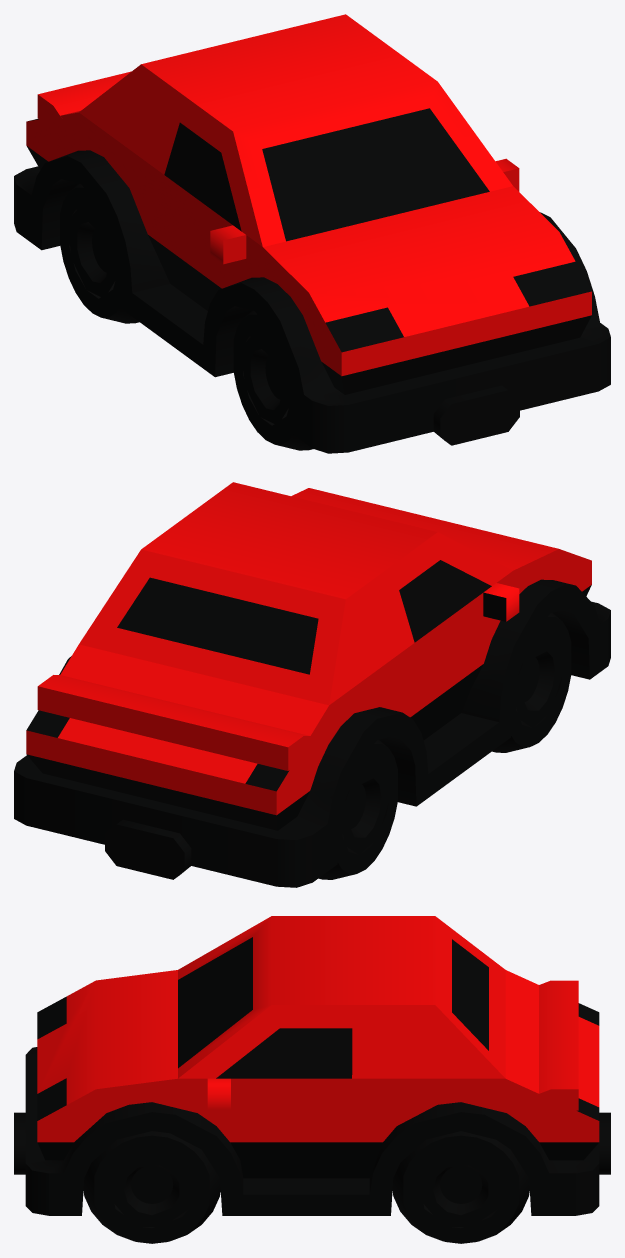
File: sedan-sports.glb
The picture shows the model from 3 angles, top to bottom: view 1: azimuth 30°, elevation 25°; view 2: azimuth 150°, elevation 25°; view 3: azimuth 270°, elevation 25°; orthographic projection. The views are drawn at different scales.
Visible parts, largest first — view 1: body, wheel-back-right, wheel-front-right, spoiler; view 2: body, spoiler, wheel-front-right, wheel-back-right; view 3: body, wheel-back-left, wheel-front-left, spoiler.
Part boxes in pixels (x1,y1,x2,y2): body: (14, 14, 610, 453); wheel-back-right: (60, 183, 139, 323); wheel-front-right: (233, 310, 313, 450); spoiler: (37, 71, 131, 140); body: (14, 482, 610, 887); spoiler: (37, 675, 319, 770); wheel-front-right: (492, 613, 571, 752); wheel-back-right: (318, 740, 397, 879); body: (14, 916, 610, 1215); wheel-back-left: (392, 1131, 529, 1243); wheel-front-left: (83, 1131, 220, 1243); spoiler: (523, 980, 578, 1110).
Bounding box in the file's own units: 1.3 × 1.1 × 2.55.
Materials: 1 (1 with a texture image).
